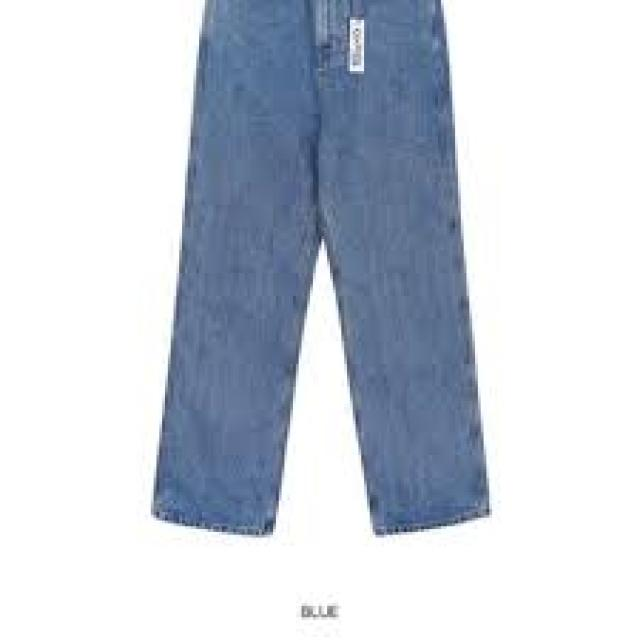pants: (141, 0, 494, 540)
